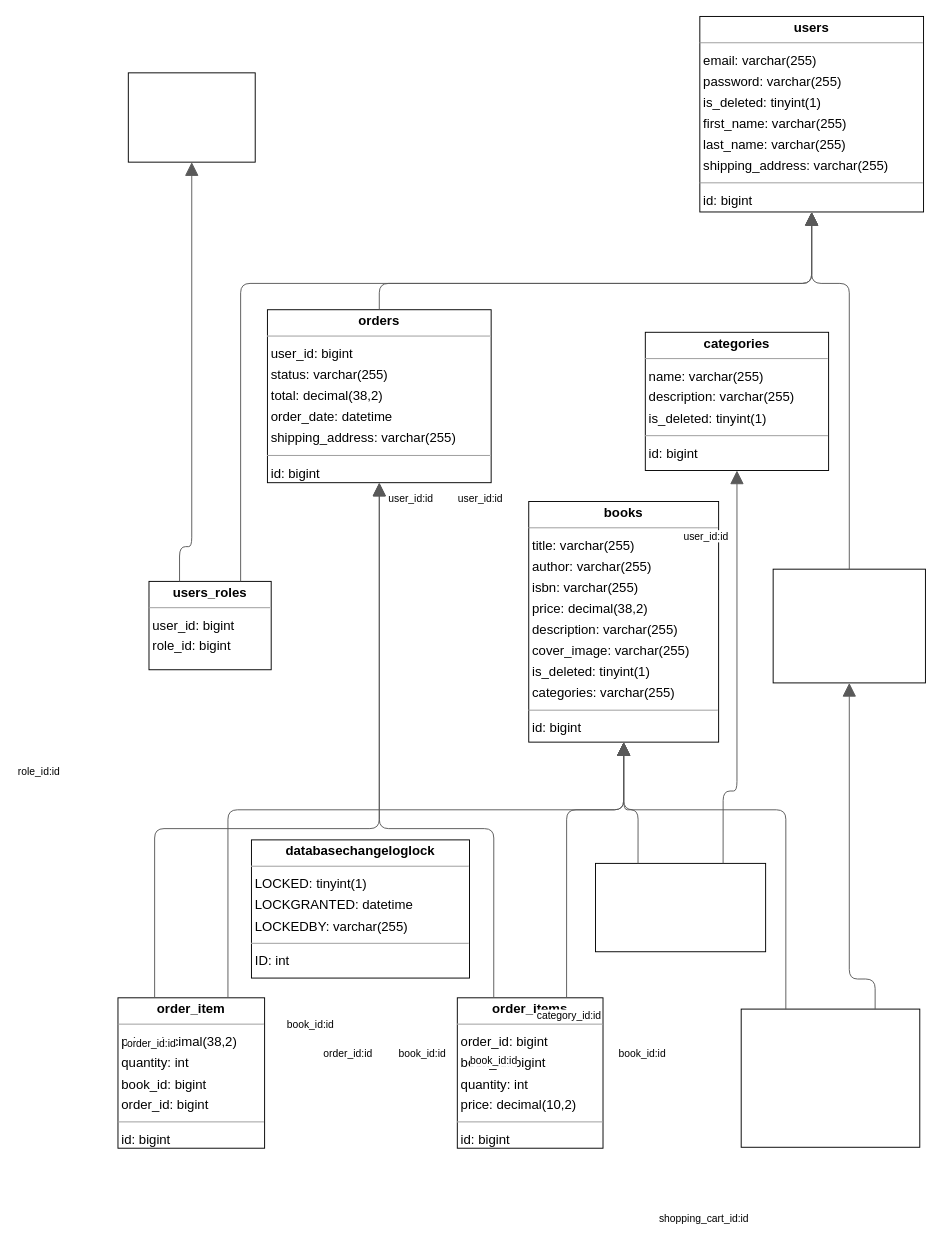
This 942x1242 diagram has some shape labels left out. The box of each missing label's shape, as (x1, y1, x2, y2) in pixels:
books_categories book_id: bigint category_id: bigint: (595, 862, 766, 952)
cart_items shopping_cart_id: bigint book_id: bigint quantity: int id: bigint: (740, 1008, 920, 1147)
roles role: varchar(50) id: bigint: (127, 72, 255, 162)
shopping_carts user_id: bigint is_deleted: tinyint(1) id: bigint: (772, 568, 925, 683)
